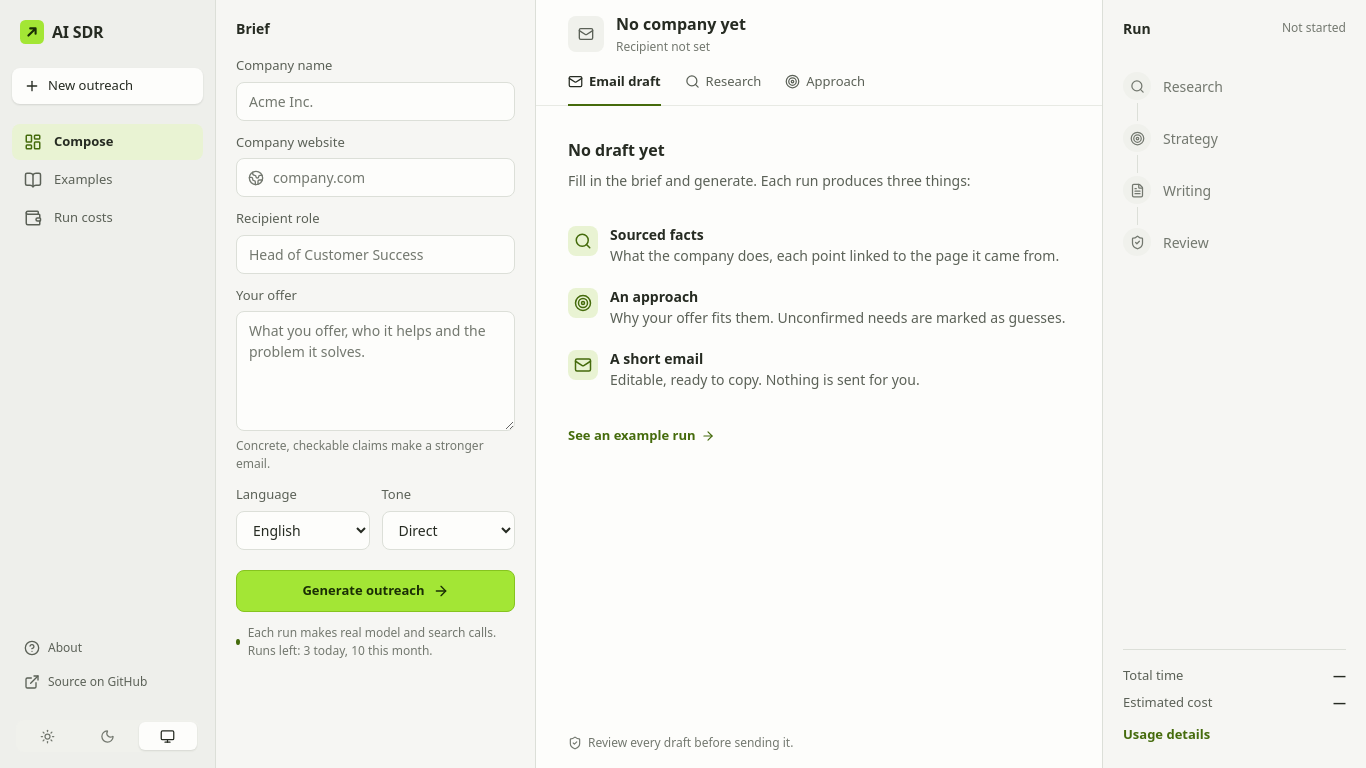
Test case: live run › turns Generate off when a refused start shows the quota is used up
In the field labelled "Company name": (376, 101) [236, 82, 515, 120], type "Acme"
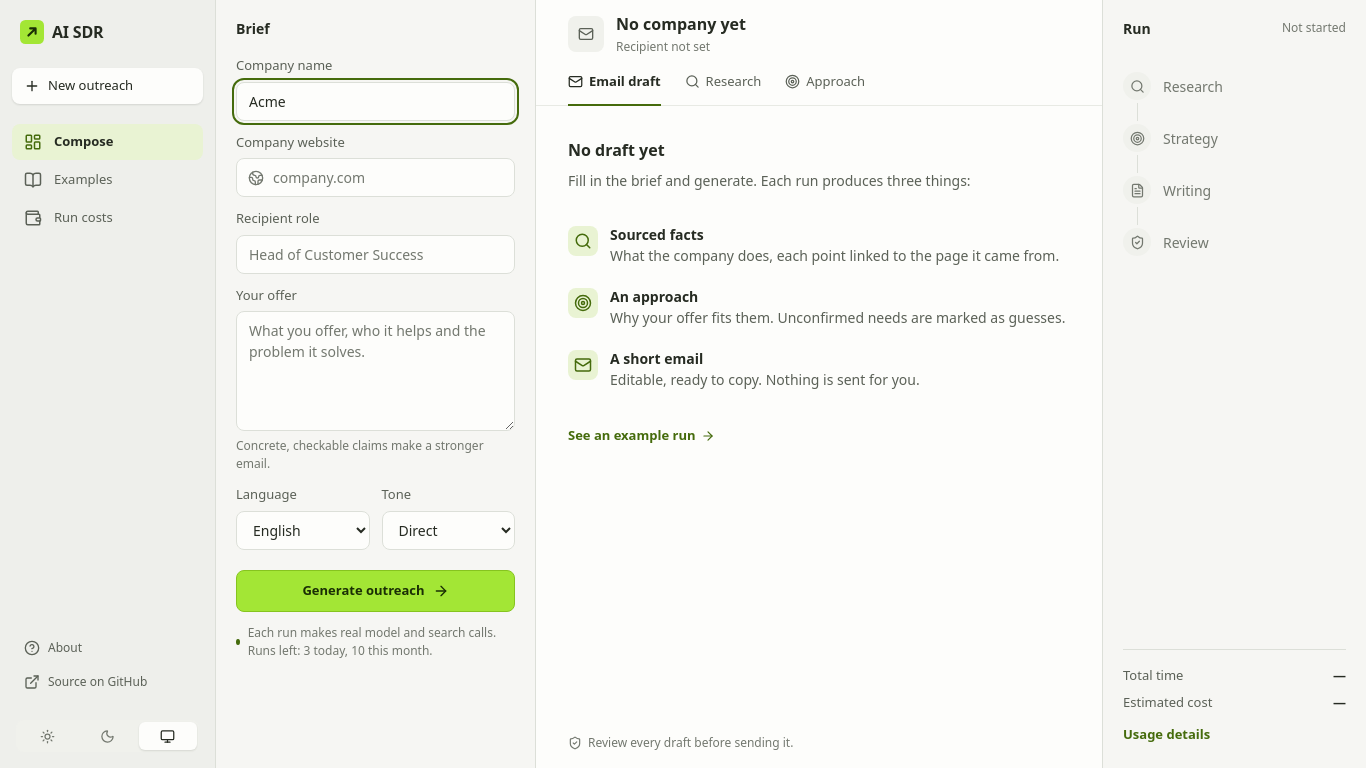
In the field labelled "Company website": (376, 178) [236, 158, 515, 197], type "acme.com"
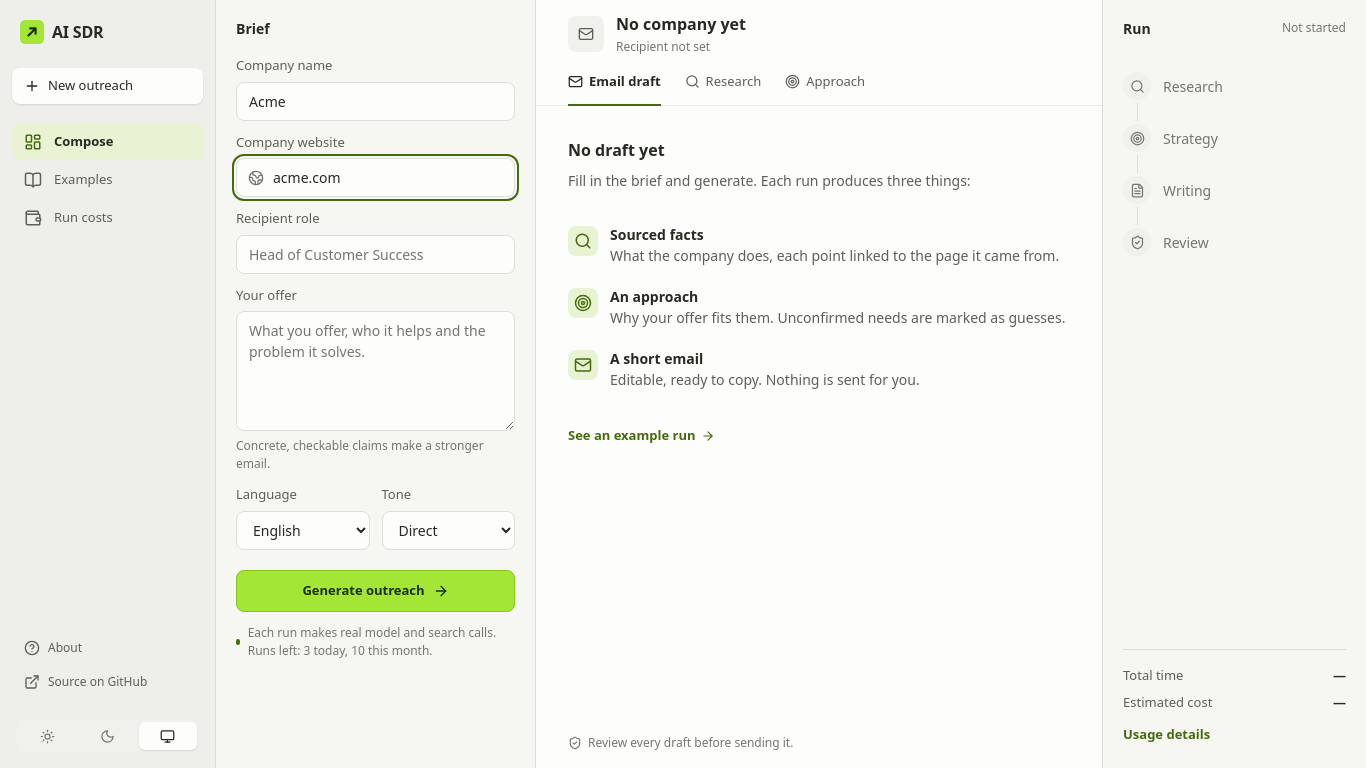
In the field labelled "Recipient role": (376, 254) [236, 234, 515, 274], type "VP of Engineering"
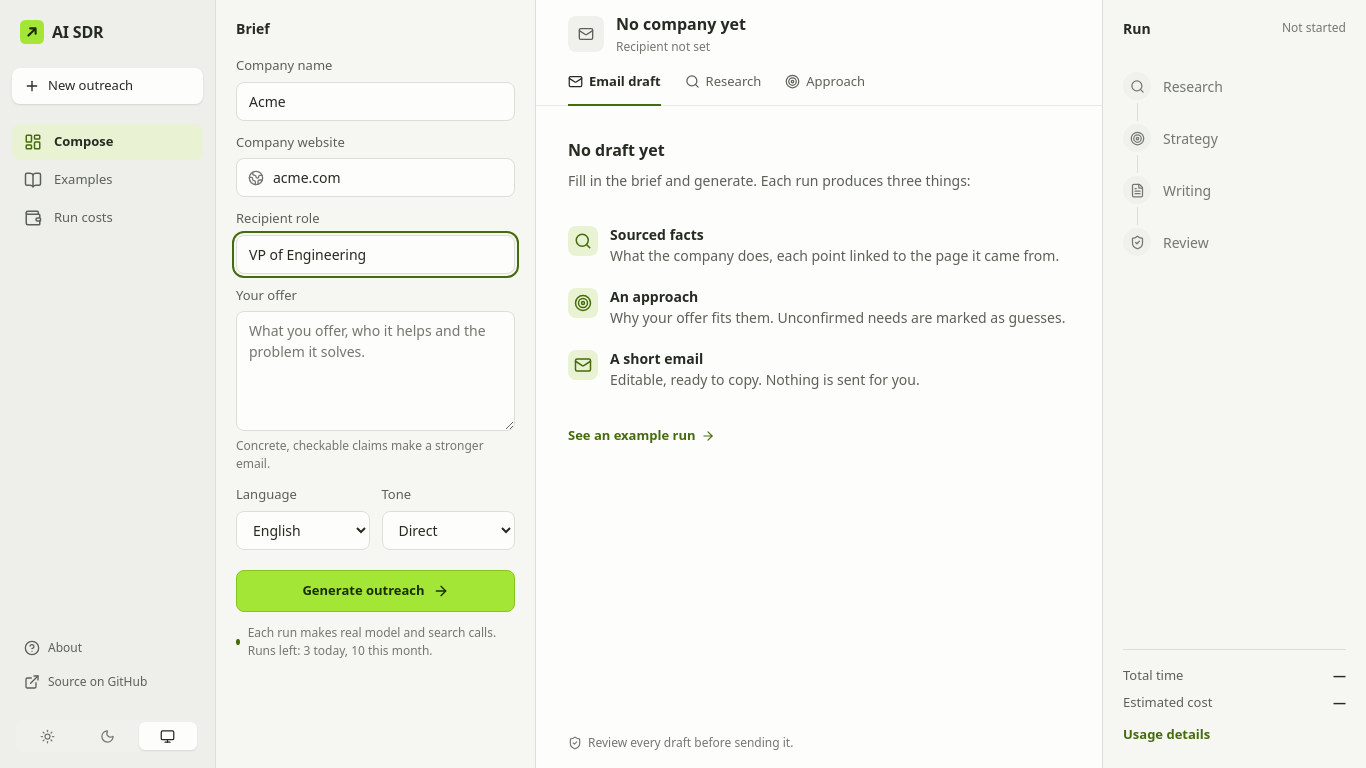
In the text box labelled "Your offer": (376, 371) [236, 311, 515, 431], type "Contract data engineers"
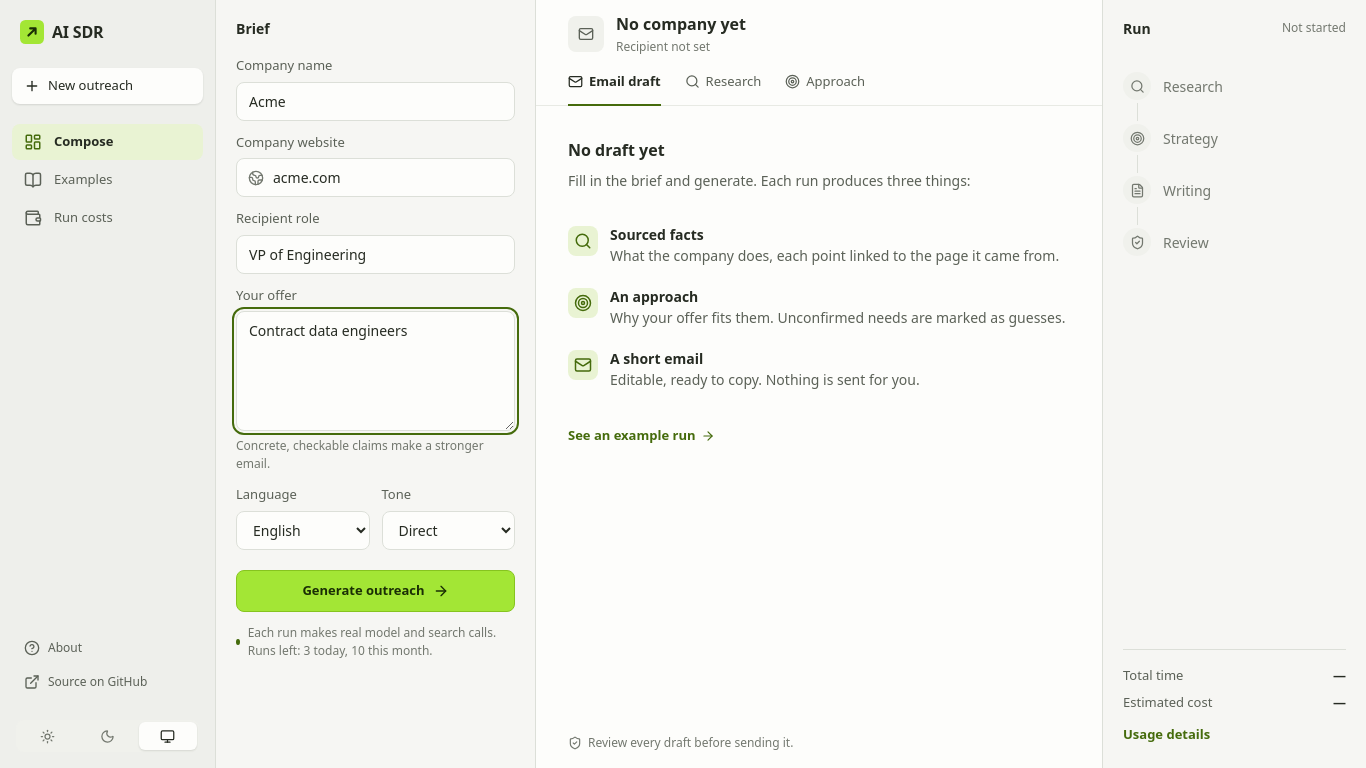
Click the button "Generate outreach": (376, 590) [236, 570, 515, 612]
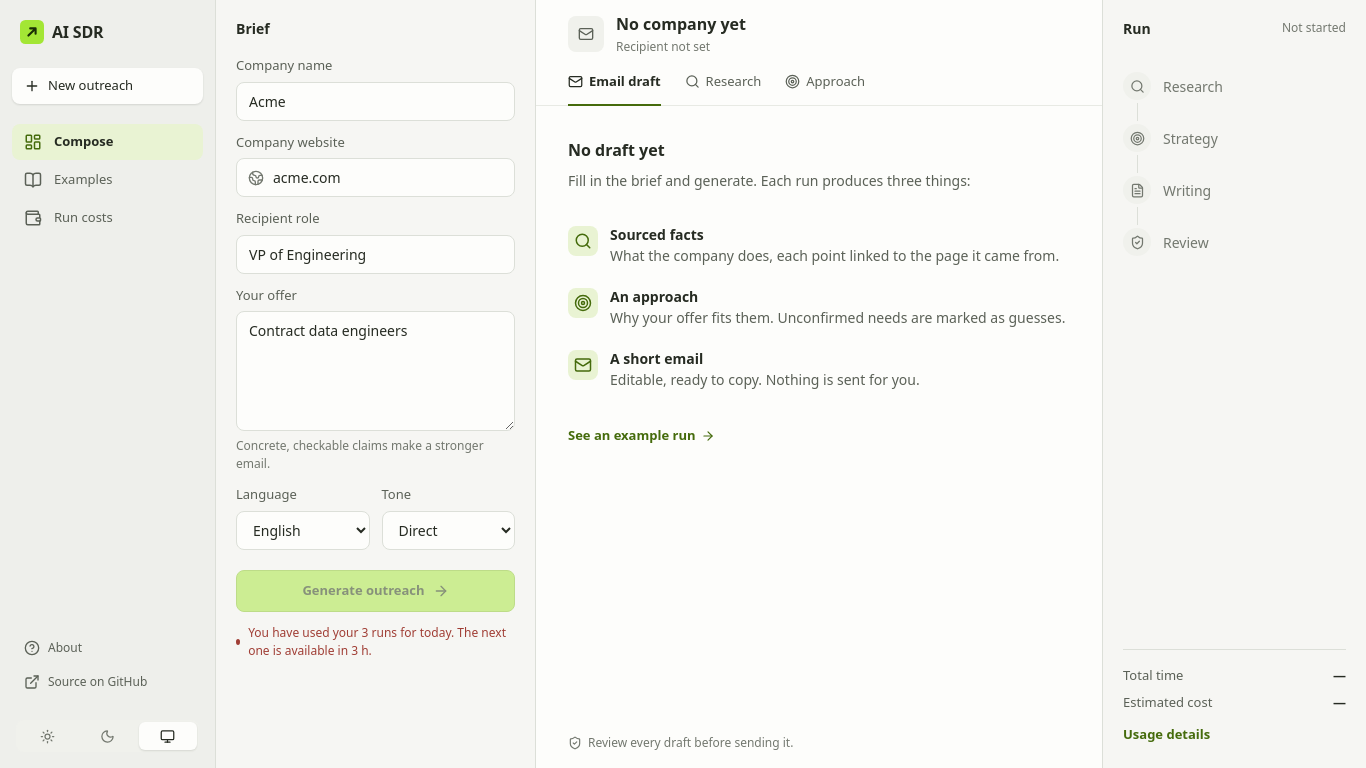
Expected: the message shows "You have used your 3 runs for today.", [248, 624, 506, 658]
Expected: the button "Generate outreach" is disabled, [236, 570, 515, 612]
